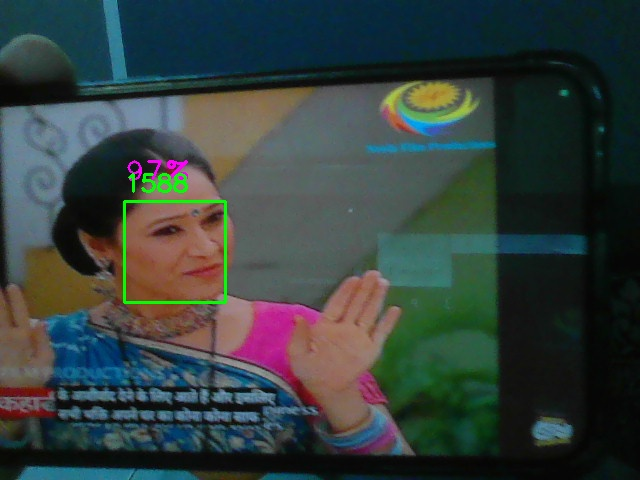fake: (124, 201, 226, 303)
